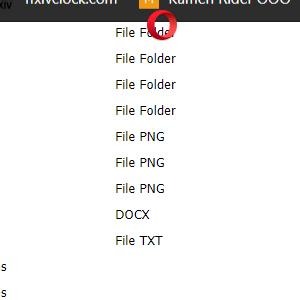opera: (147, 10, 177, 40)
